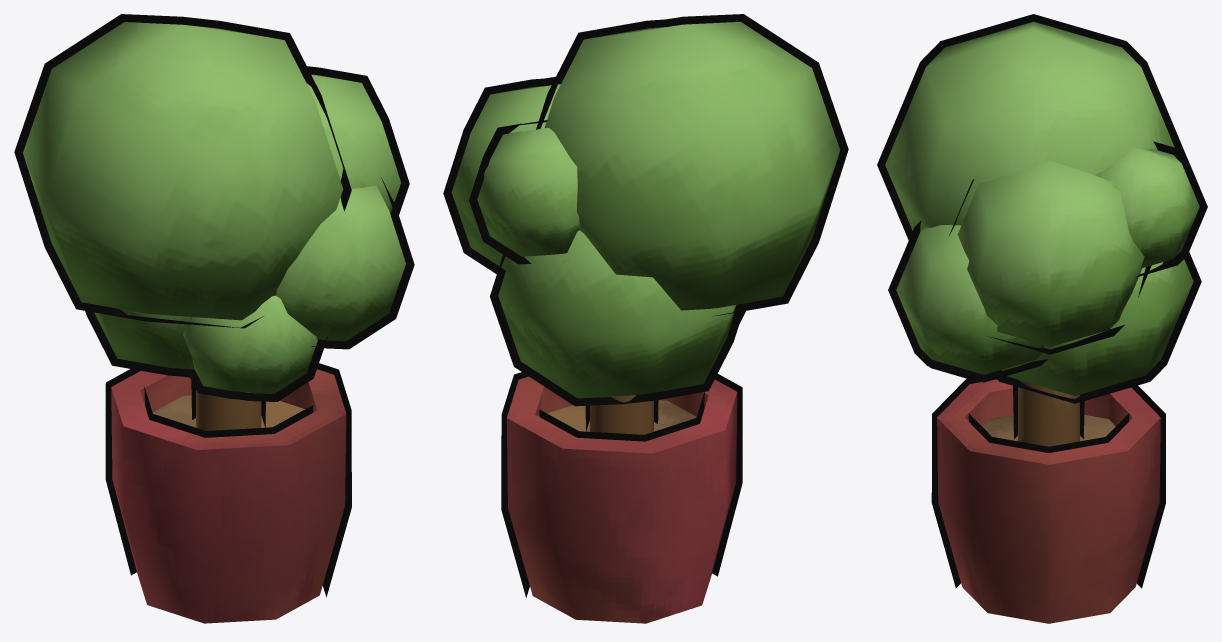
File: Vaso de plantas.glb
The picture shows the model from 3 angles, left to right: view 1: azimuth 30°, elevation 25°; view 2: azimuth 150°, elevation 25°; view 3: azimuth 270°, elevation 25°; orthographic projection. The views are drawn at different scales.
Visible parts, largest first — view 1: Vaso plantas; view 2: Vaso plantas; view 3: Vaso plantas.
Part boxes in pixels (x1,y1,x2,y2): Vaso plantas: (14, 14, 414, 623); Vaso plantas: (443, 14, 848, 623); Vaso plantas: (877, 14, 1207, 623).
Bounding box in the file's own units: 1.02 × 1.56 × 0.8645.
2 materials, 1 textured.
